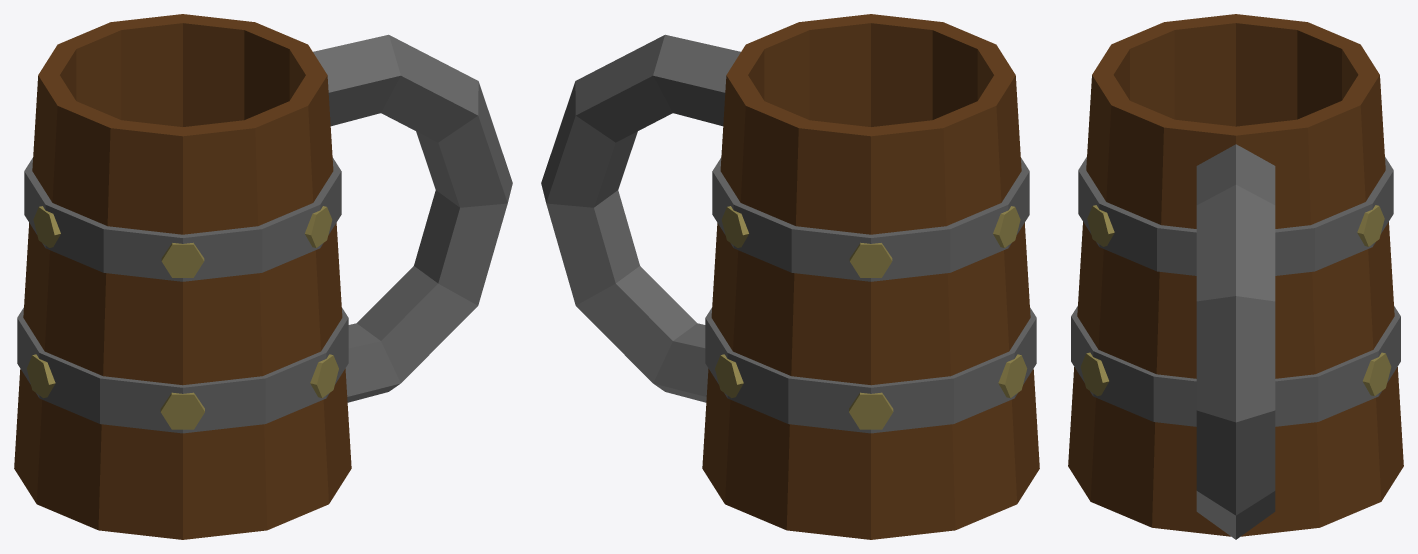
File: Cup_03.fbx
3 renders of one model, left to right at view 1: azimuth 30°, elevation 25°; view 2: azimuth 150°, elevation 25°; view 3: azimuth 270°, elevation 25°, orthographic.
Visible parts, largest first — view 1: Cup_03; view 2: Cup_03; view 3: Cup_03.
Part boxes in pixels (x1,y1,x2,y2): Cup_03: [14, 14, 512, 539]; Cup_03: [541, 14, 1039, 539]; Cup_03: [1068, 14, 1403, 539].
Size of the model in its own units: 32.51 by 25.67 by 19.96.
